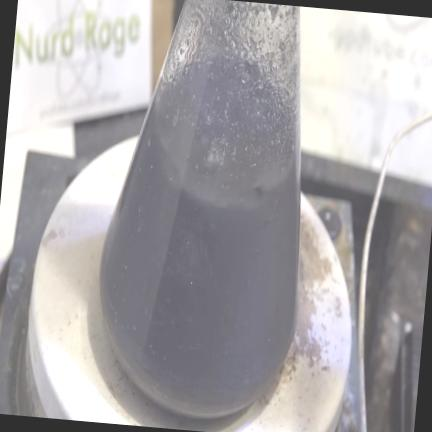container: (101, 0, 299, 416)
fluid: (100, 101, 301, 417)
fluid-surface: (156, 62, 297, 200)
